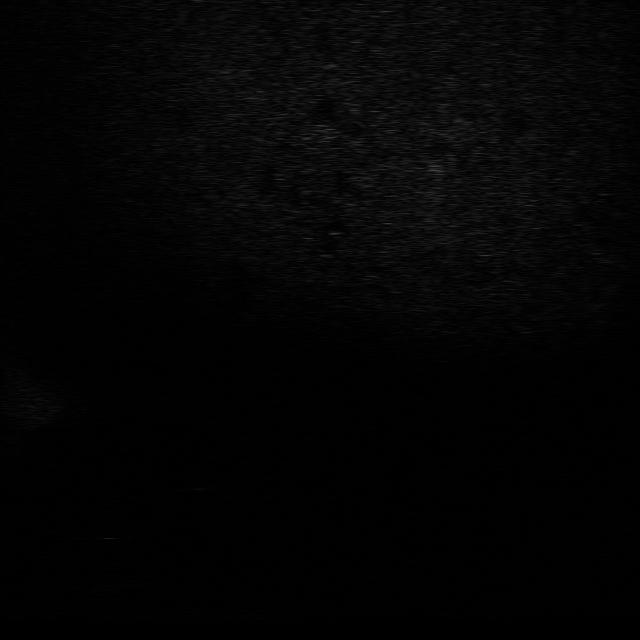ball: (204, 453, 268, 483)
square cage: (92, 504, 174, 540)
